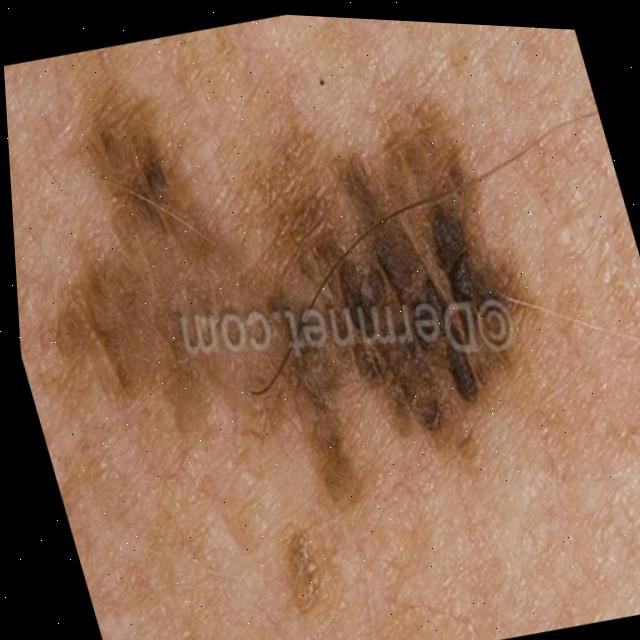Eczema: (29, 88, 554, 488)
